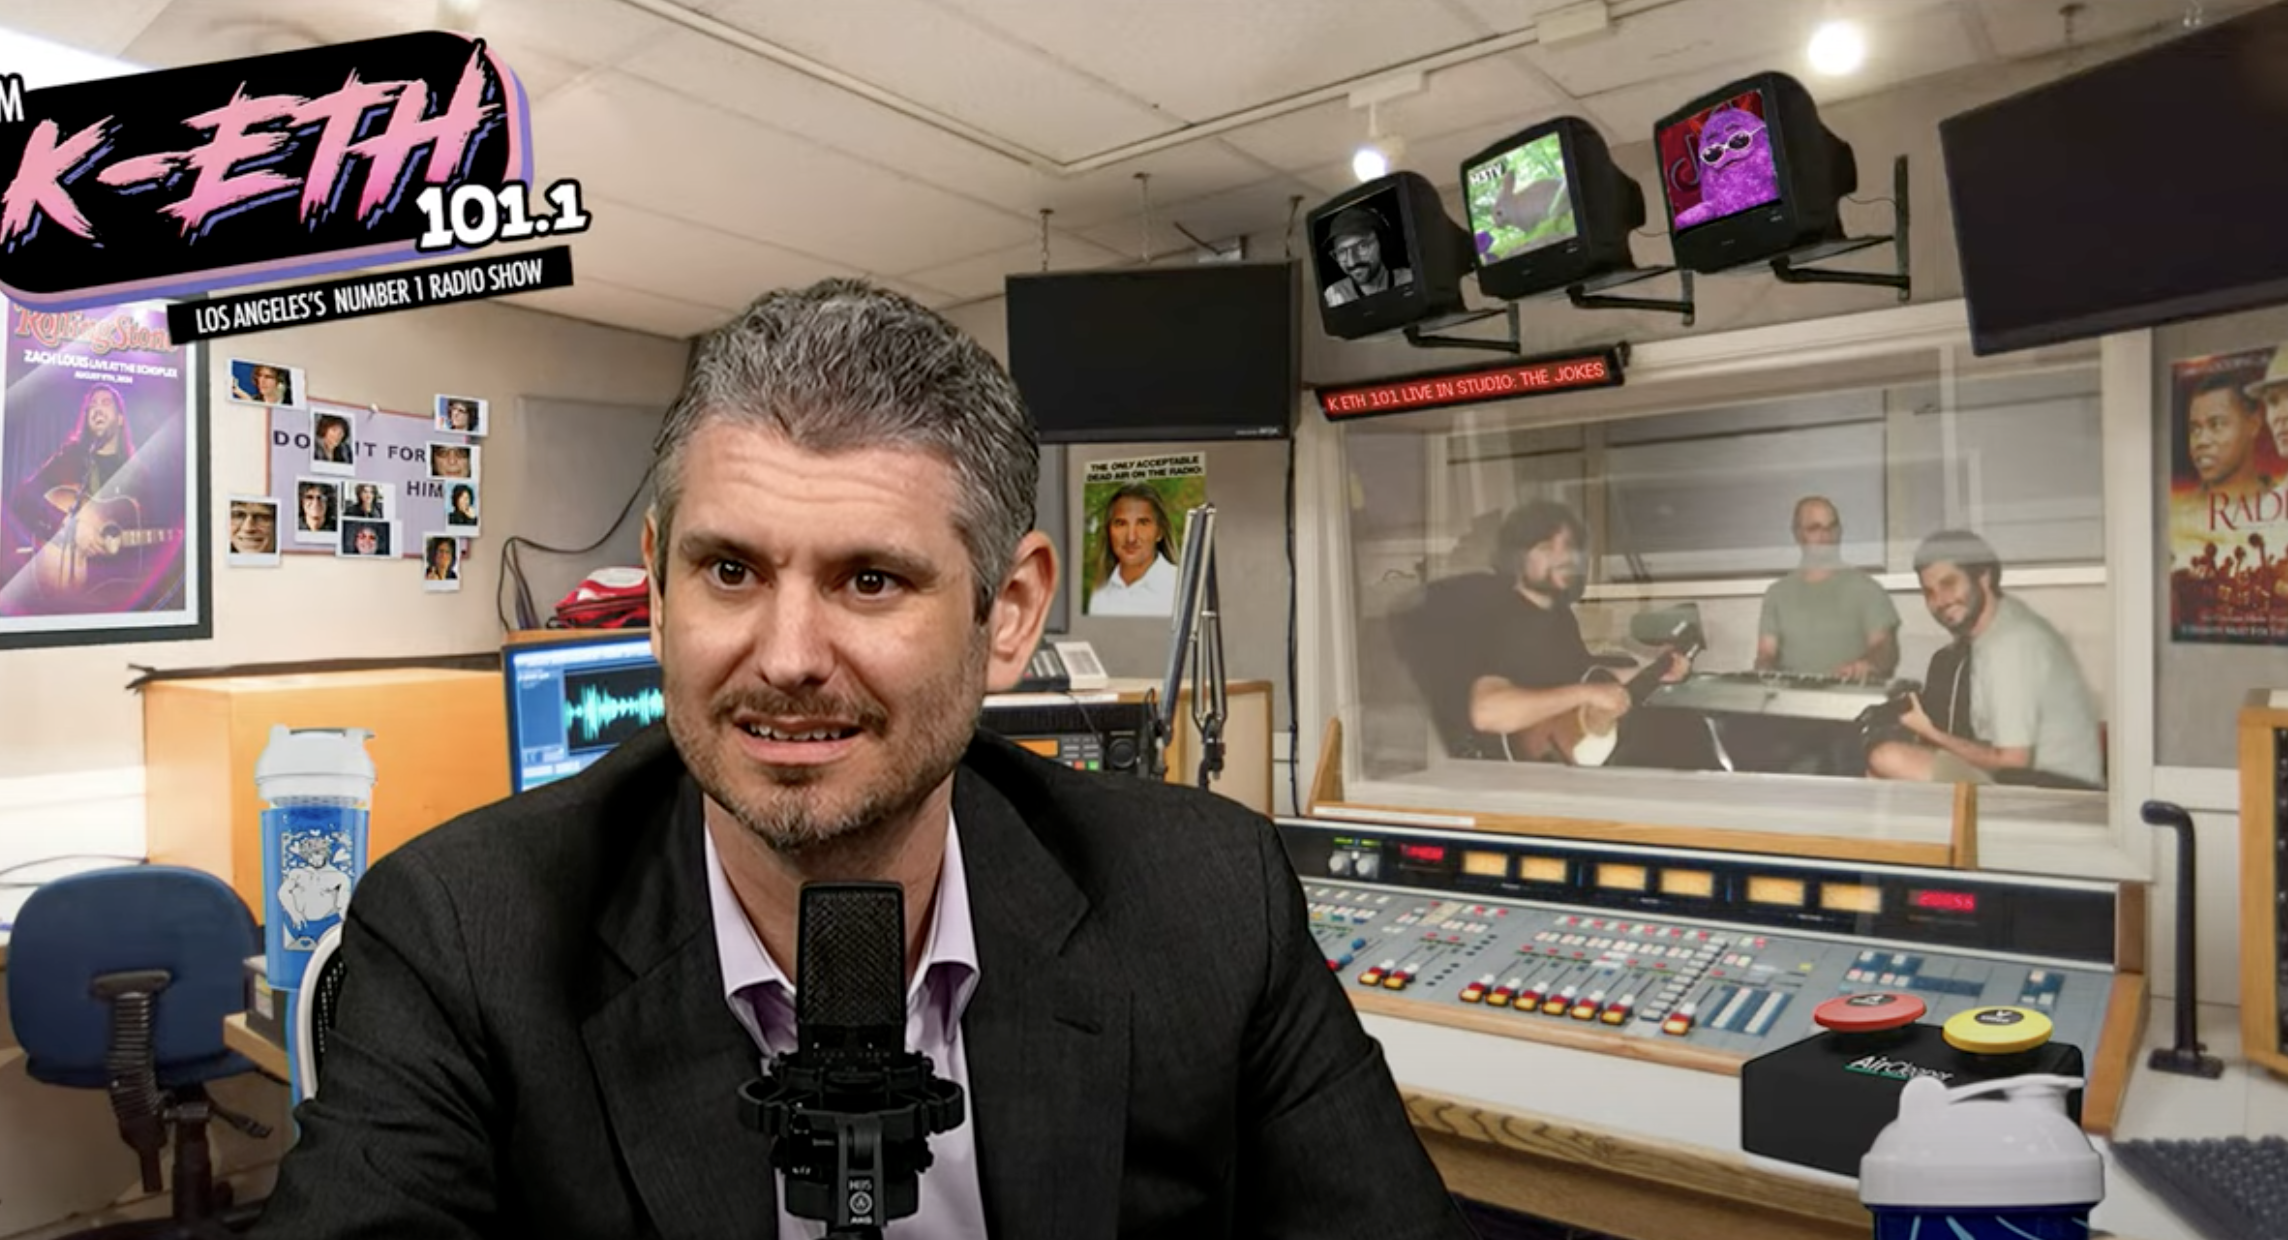person: (245, 274, 1470, 1236), (1389, 497, 1692, 768), (1855, 526, 2105, 790), (1751, 493, 1901, 687), (1083, 480, 1181, 618)
